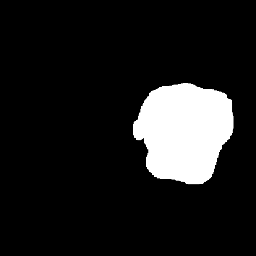mass: (141, 88, 235, 186)
